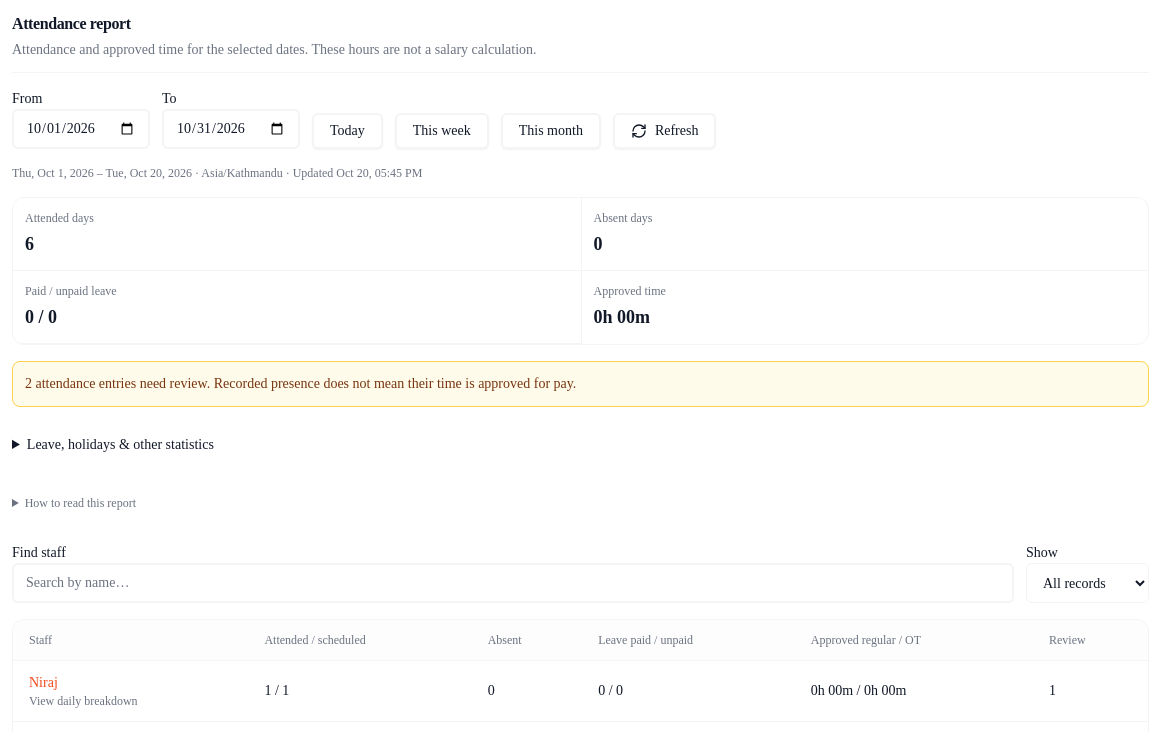
AttendanceRegister › scopes summary totals to the selected employee
expect the text "6" is shown: met, box [25,234,34,254]
Click the button "Niraj": coordinates (43, 683) [29,673,58,693]
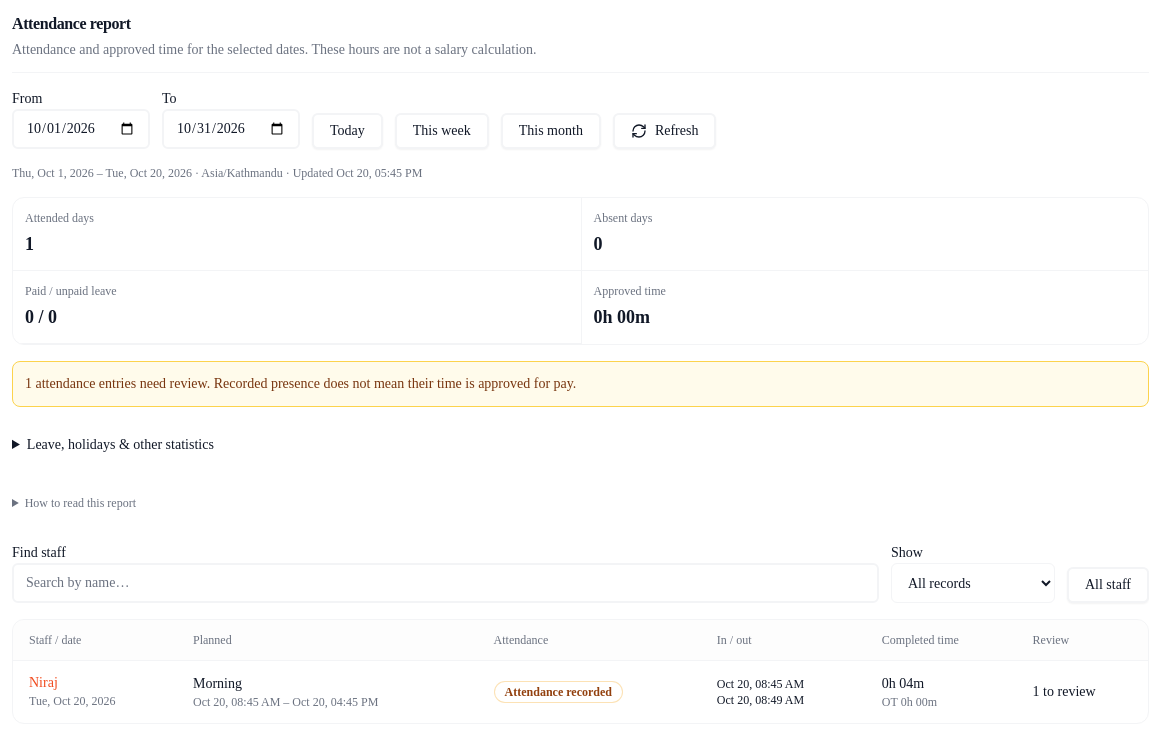
expect the text "1" is shown: met, box [25,234,34,254]
